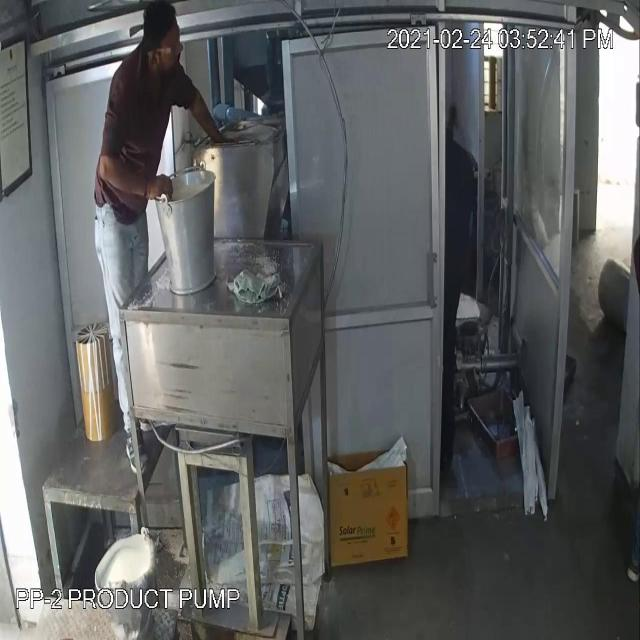no-helmet: (136, 1, 194, 59)
